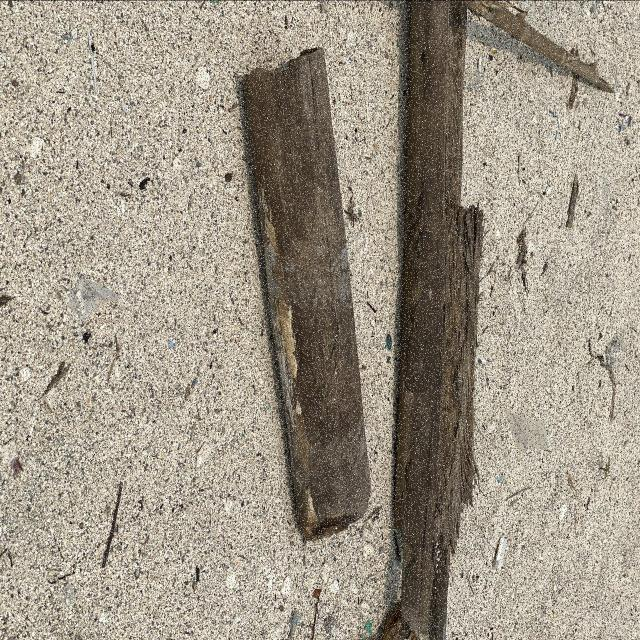wood_waste: (383, 1, 497, 640), (238, 44, 377, 555)
